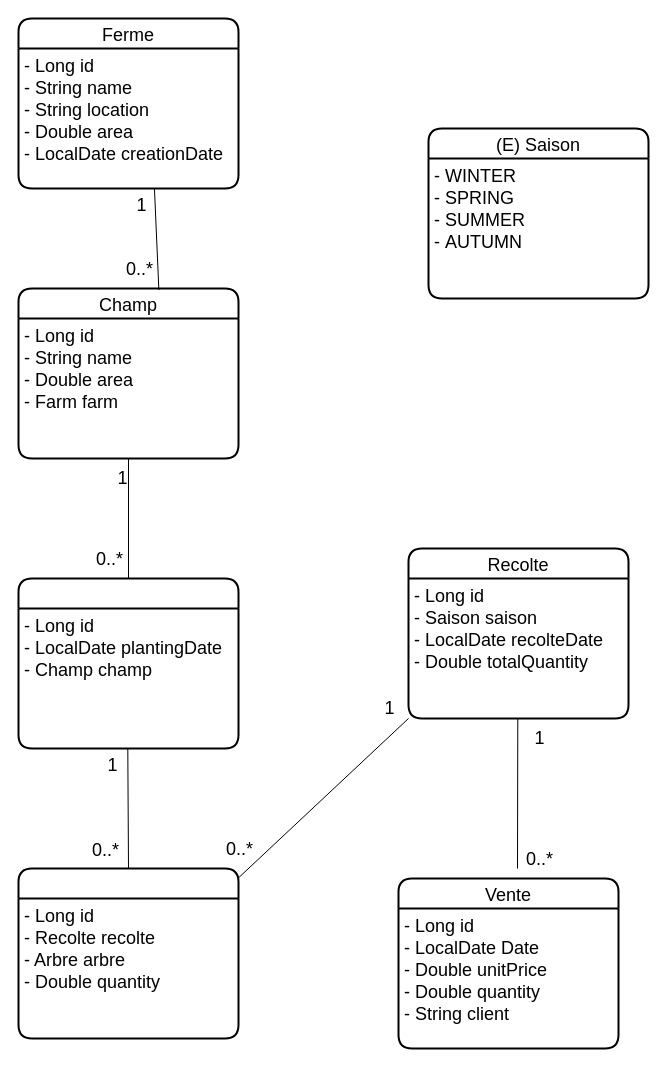
Some shapes in this 666 by 1066 pixel diagram are drawn without their labels. Here are the shapes that lost their labels. From the top down, the box of each, then its label:
(17, 577, 239, 749): Arbre
(17, 867, 239, 1039): RecolteDetail
